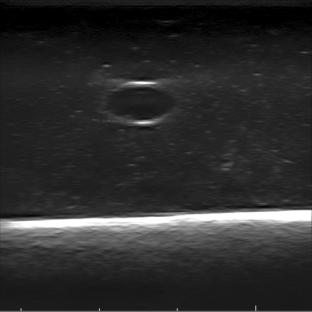vessel: (102, 81, 178, 126)
